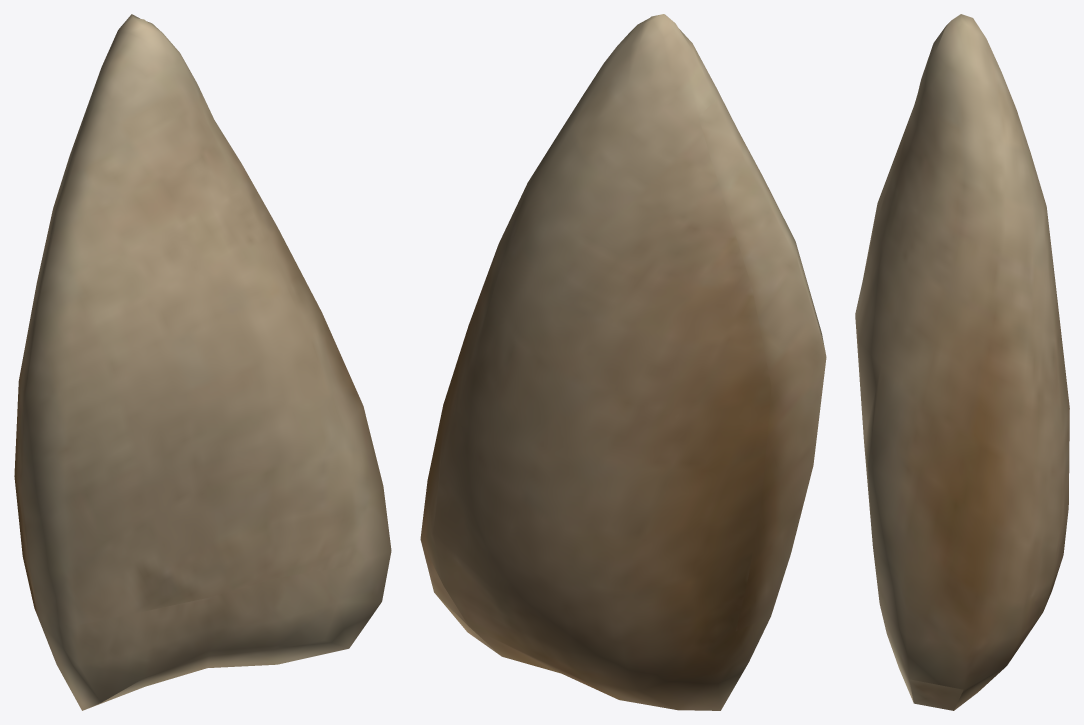
File: Upper_Incisor2.glb
3 renders of one model, left to right at view 1: azimuth 30°, elevation 25°; view 2: azimuth 150°, elevation 25°; view 3: azimuth 270°, elevation 25°, orthographic. The views are drawn at different scales.
Parts seen in each view (by area): view 1: Upper_Incisor3; view 2: Upper_Incisor3; view 3: Upper_Incisor3.
Boxes of the visible parts, x1=… form: Upper_Incisor3: x1=14, y1=14, x2=391, y2=710; Upper_Incisor3: x1=420, y1=14, x2=826, y2=710; Upper_Incisor3: x1=855, y1=14, x2=1069, y2=710.
Size of the model in its own units: 0.0157 by 0.0274 by 0.00855.
1 material, 1 textured.
